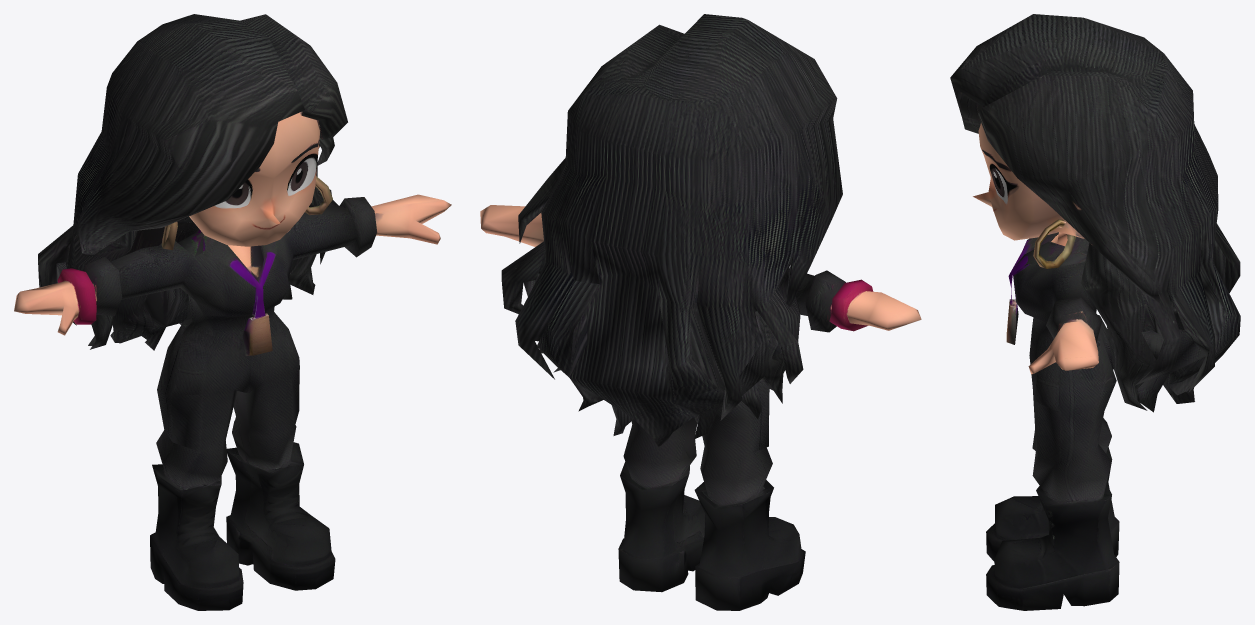
Rendered from enriquetta.glb.
3 views of the same model, side by side, from view 1: azimuth 30°, elevation 25°; view 2: azimuth 150°, elevation 25°; view 3: azimuth 270°, elevation 25° (orthographic).
Visible parts, largest first — view 1: mesh_node; view 2: mesh_node; view 3: mesh_node.
Part boxes in pixels (x1=…): mesh_node: x1=14, y1=14, x2=451, y2=610; mesh_node: x1=480, y1=14, x2=921, y2=610; mesh_node: x1=950, y1=14, x2=1240, y2=610.
Size of the model in its own units: 0.8301 by 0.998 by 0.4814.
1 material, 1 textured.
